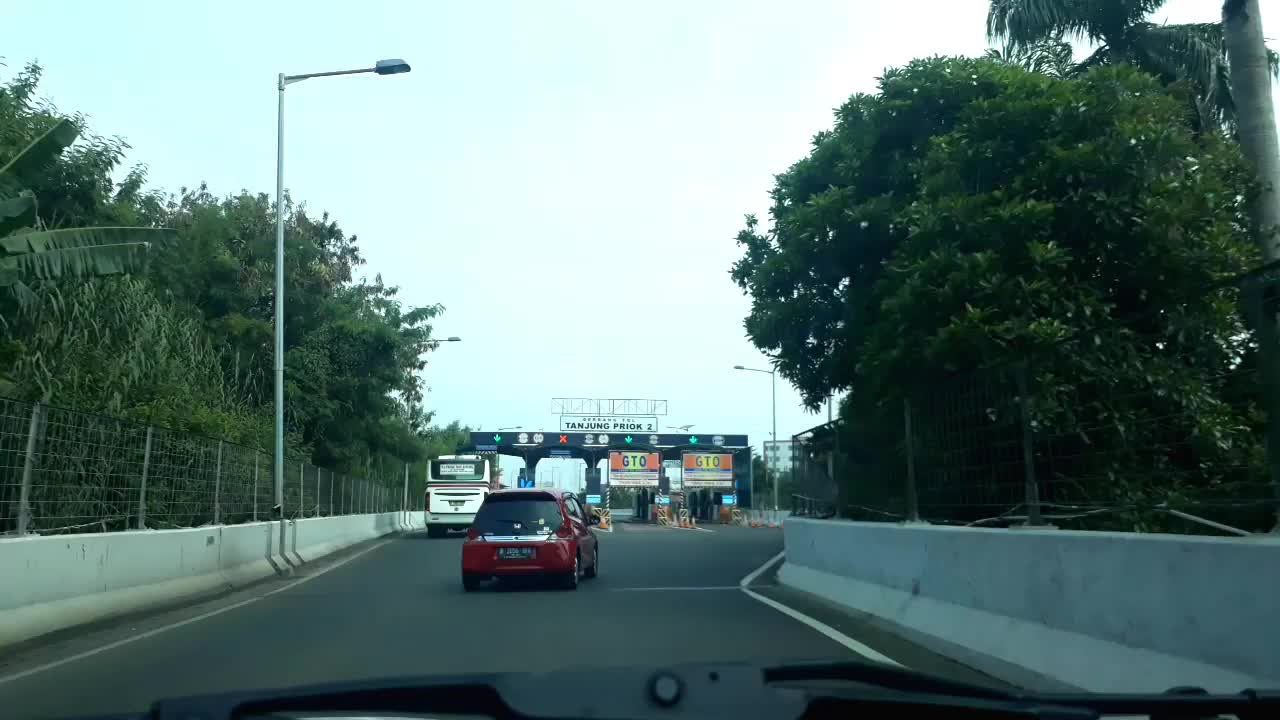plate_positive: (498, 547, 534, 560)
